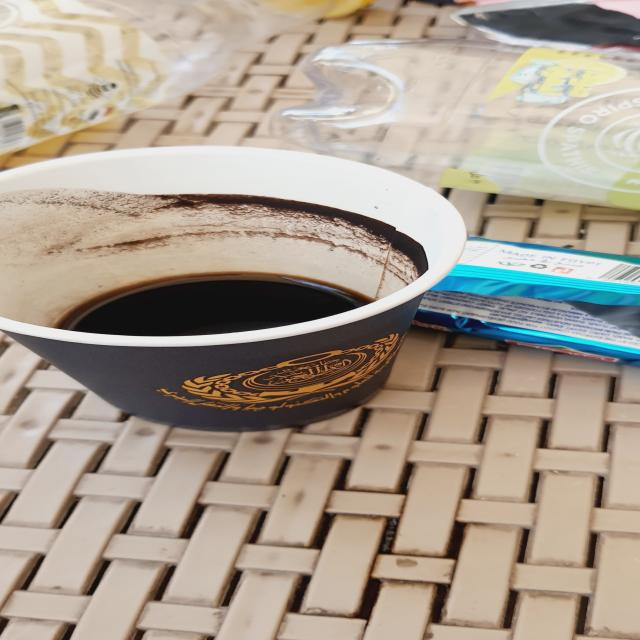paper: (0, 146, 465, 434)
plastic: (300, 31, 640, 218)
